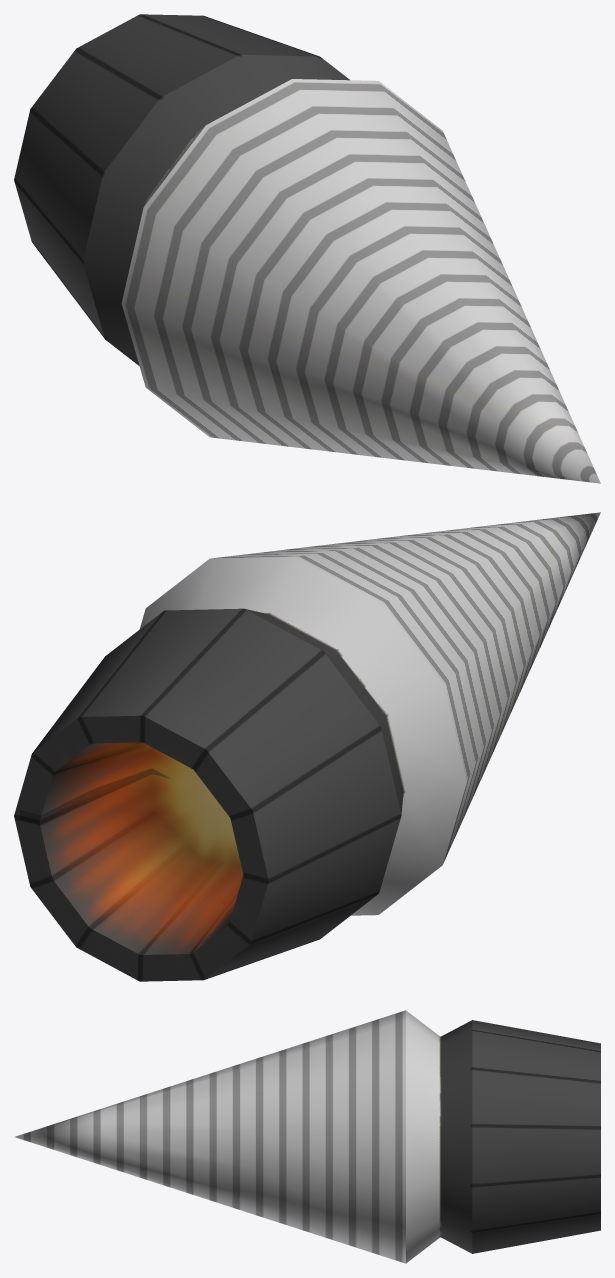
Rendered from Projectile_Drill.fbx.
3 views of the same model, one above another, from view 1: azimuth 30°, elevation 25°; view 2: azimuth 150°, elevation 25°; view 3: azimuth 270°, elevation 25° (orthographic). The views are drawn at different scales.
Visible parts, largest first — view 1: Projectile_Drill1:Projectile_Drill1; view 2: Projectile_Drill1:Projectile_Drill1; view 3: Projectile_Drill1:Projectile_Drill1.
Part boxes in pixels (x1,y1,x2,y2): Projectile_Drill1:Projectile_Drill1: (14, 14, 600, 483); Projectile_Drill1:Projectile_Drill1: (14, 512, 600, 981); Projectile_Drill1:Projectile_Drill1: (15, 1010, 600, 1263).
Bounding box in the file's own units: 87.73 × 87.73 × 202.
